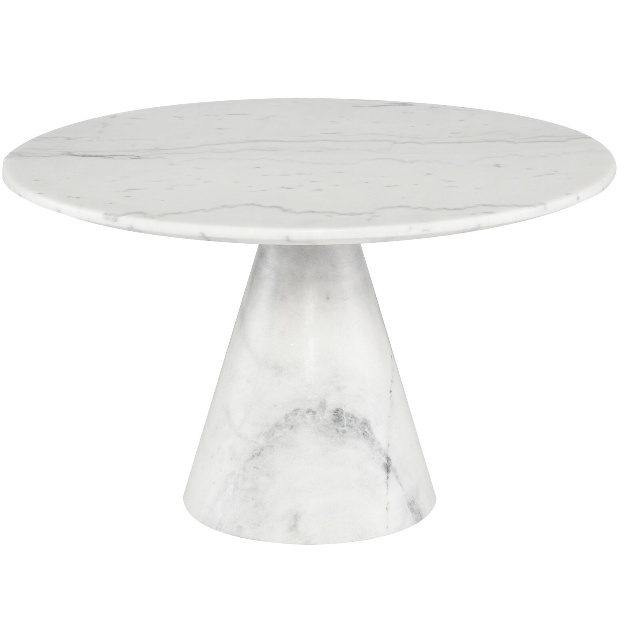obstacle: (3, 99, 615, 544)
